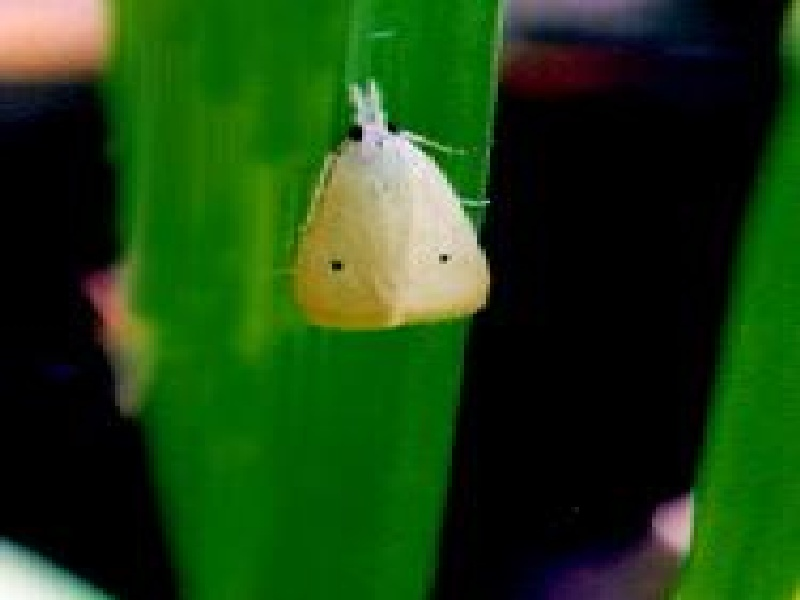Yellow_Stem_Borer: (292, 70, 525, 335)
